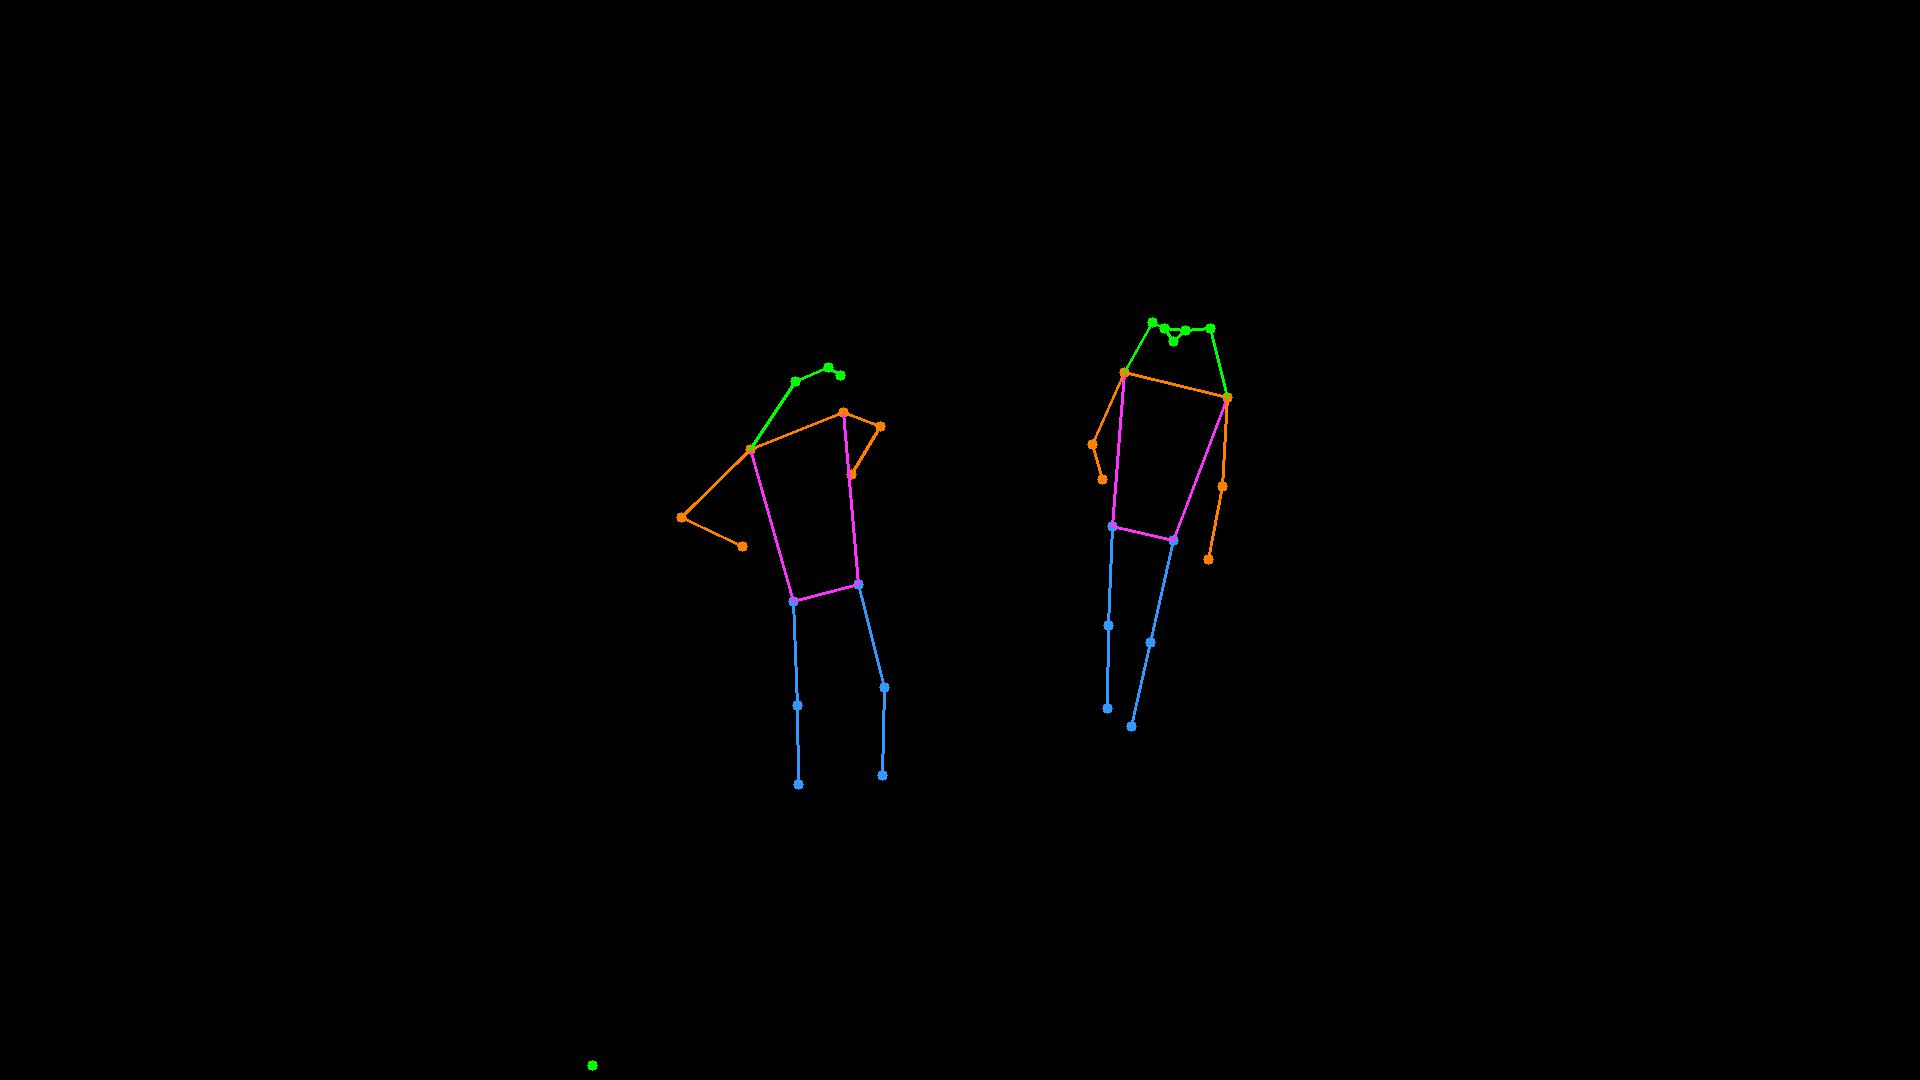normal: (669, 302, 939, 837), (1068, 265, 1245, 794)
